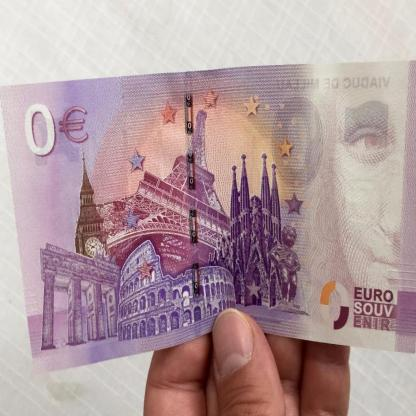billete: (0, 55, 416, 379)
